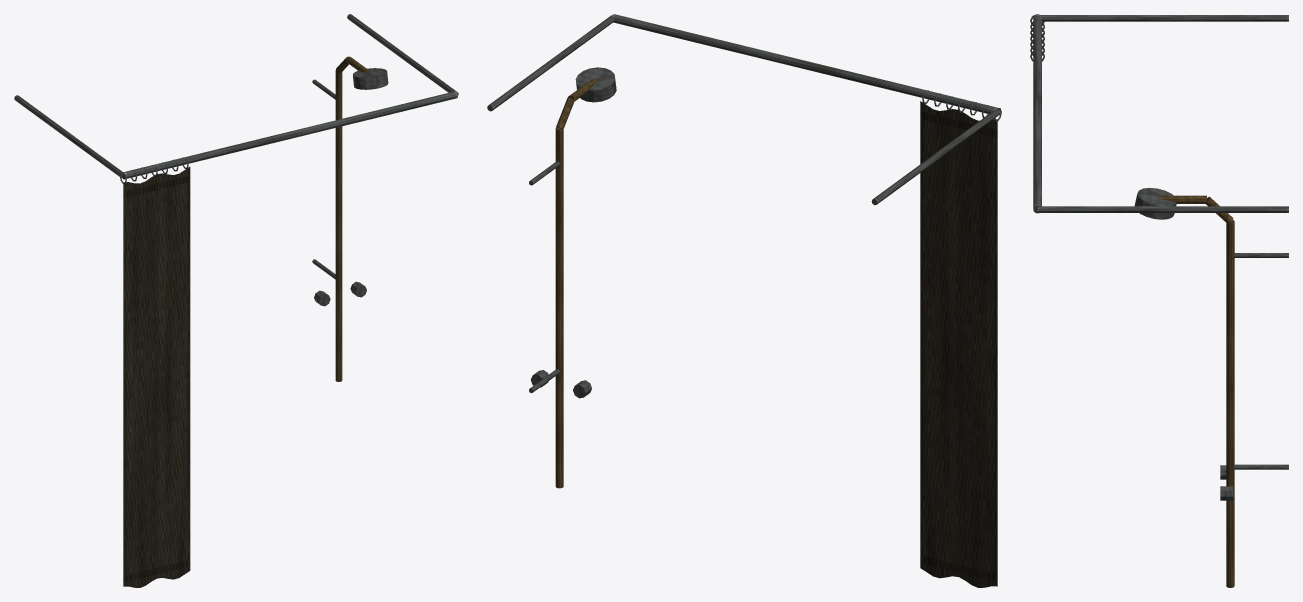
Rendered from level_bath_shower_rail_worn.glb.
3 renders of one model, left to right at view 1: azimuth 30°, elevation 25°; view 2: azimuth 150°, elevation 25°; view 3: azimuth 270°, elevation 25°, orthographic. The views are drawn at different scales.
Parts seen in each view (by area): view 1: level_bath_shower_rail_worn; view 2: level_bath_shower_rail_worn; view 3: level_bath_shower_rail_worn.
Part boxes in pixels (x1,y1,x2,y2): level_bath_shower_rail_worn: [14, 14, 458, 587]; level_bath_shower_rail_worn: [487, 14, 1001, 587]; level_bath_shower_rail_worn: [1030, 14, 1288, 587].
Size of the model in its own units: 1.57 by 1.87 by 0.8856.
Materials: 3 (3 with a texture image).
